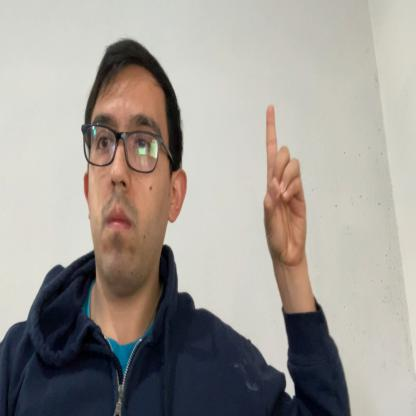D: (263, 103, 308, 268)
